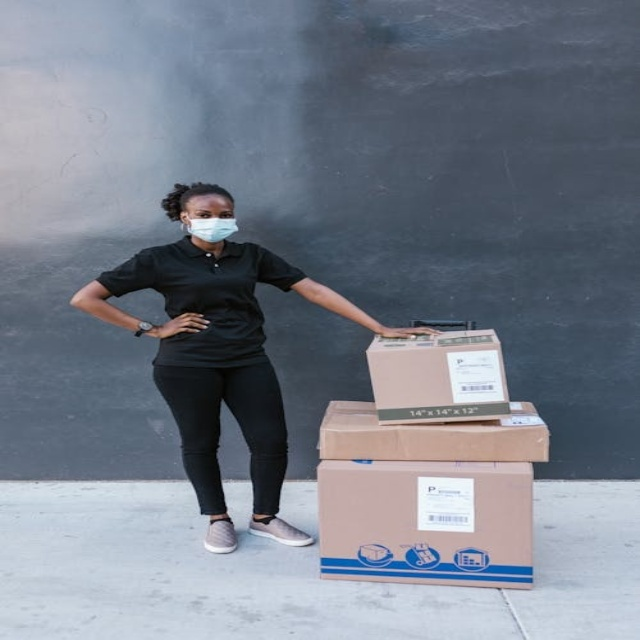Mascara: (183, 215, 239, 242)
Sin_gafas: (200, 214, 211, 219), (221, 214, 233, 218)
Sin_guantes: (146, 306, 215, 342), (378, 315, 451, 343)
